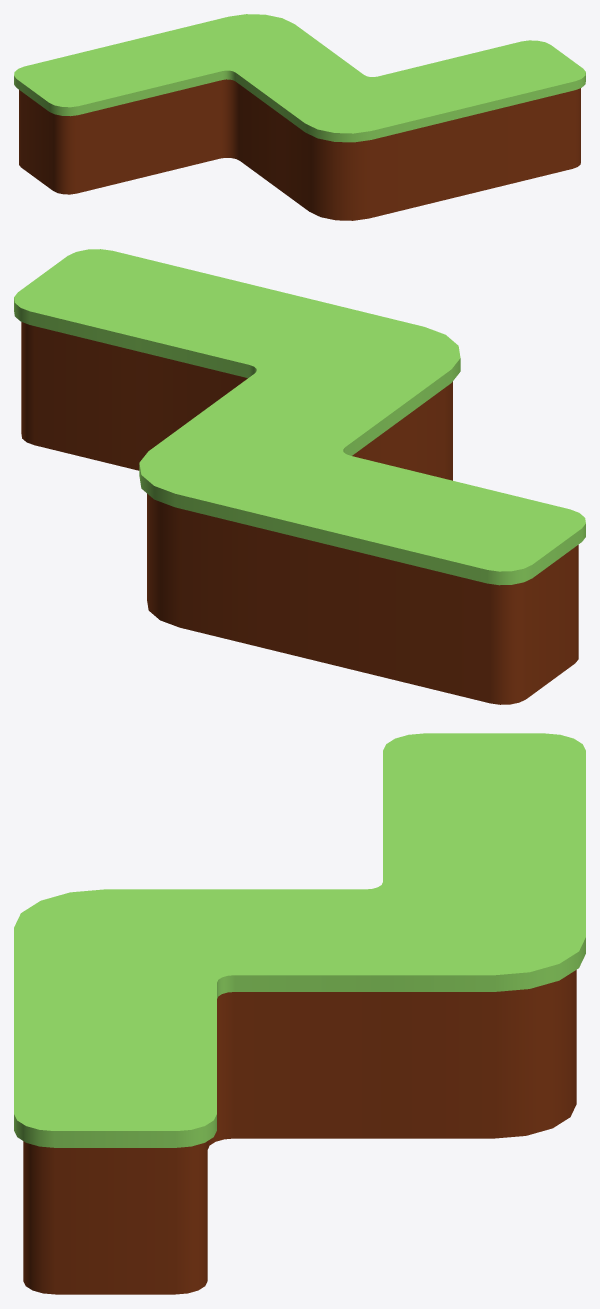
File: lowpoly_grass_platform.glb
The picture shows the model from 3 angles, top to bottom: view 1: azimuth 30°, elevation 25°; view 2: azimuth 150°, elevation 25°; view 3: azimuth 270°, elevation 25°; orthographic projection. The views are drawn at different scales.
Visible parts, largest first — view 1: Platform; view 2: Platform; view 3: Platform.
Part boxes in pixels (x1,y1,x2,y2): Platform: [14, 14, 585, 220]; Platform: [14, 249, 585, 704]; Platform: [14, 733, 585, 1294].
Size of the model in its own units: 10.2 by 2 by 6.2.
